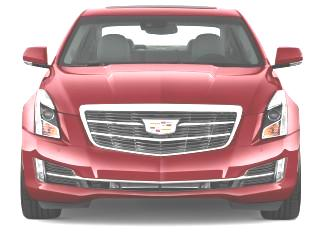cadillac: (138, 114, 186, 138)
